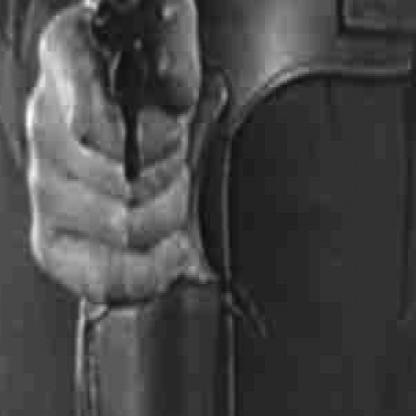gun: (88, 0, 173, 197)
